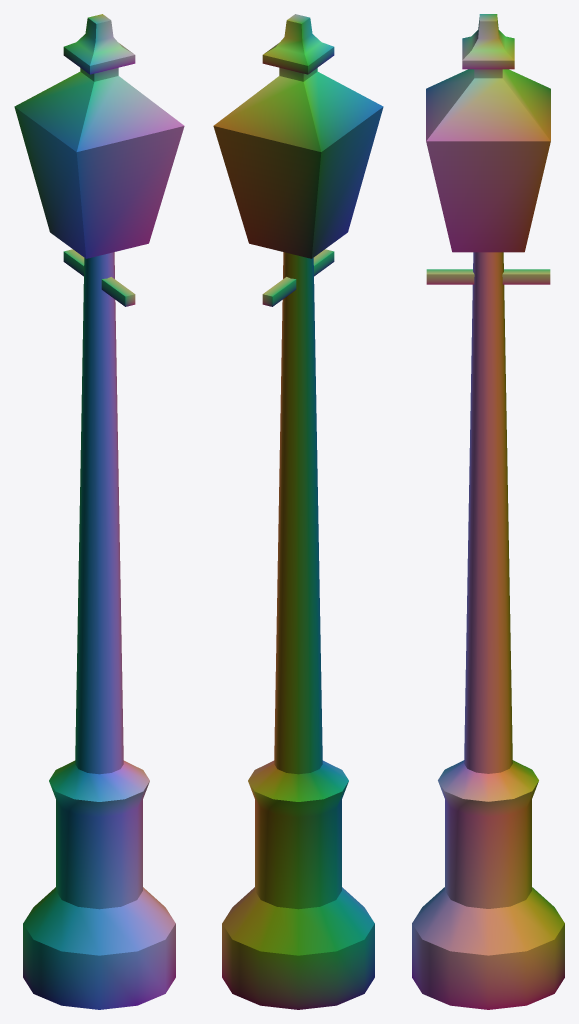
Rendered from SM_streetLamp.fbx.
The picture shows the model from 3 angles, left to right: view 1: azimuth 30°, elevation 25°; view 2: azimuth 150°, elevation 25°; view 3: azimuth 270°, elevation 25°; orthographic projection.
Visible parts, largest first — view 1: SM_streetLamp; view 2: SM_streetLamp; view 3: SM_streetLamp.
Part boxes in pixels (box(x1,y1,x2,y2)): SM_streetLamp: box(14, 14, 184, 1009); SM_streetLamp: box(213, 14, 383, 1009); SM_streetLamp: box(412, 14, 564, 1009).
Size of the model in its own units: 67.02 by 464 by 67.02.
